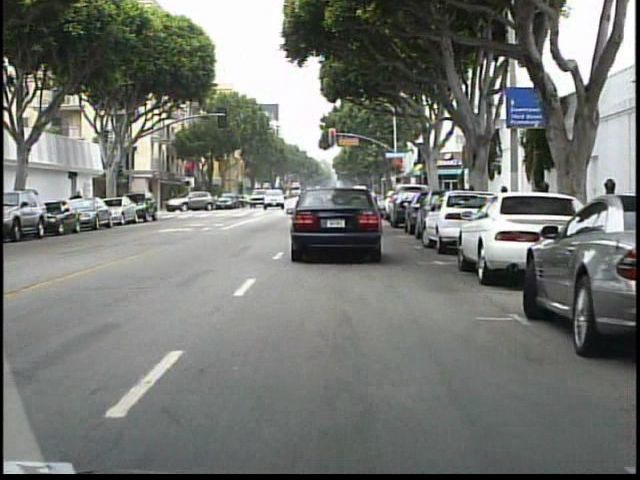person: (71, 186, 89, 224), (170, 190, 185, 217)
